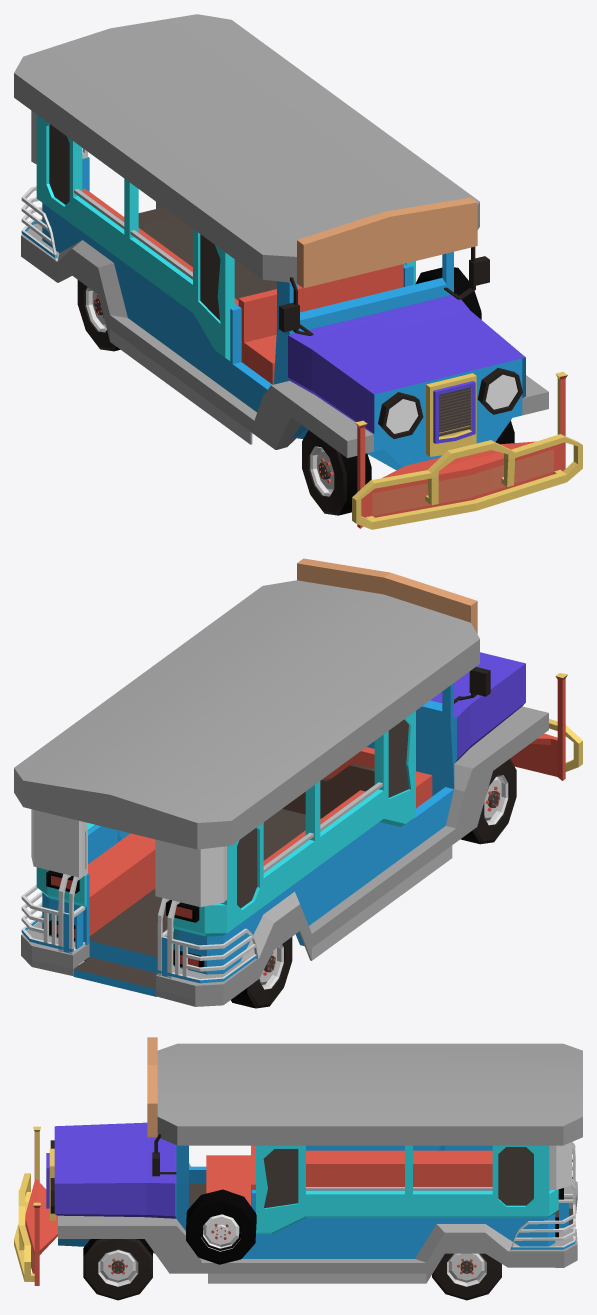
Rendered from jeep_separated.fbx.
3 views of the same model, one above another, from view 1: azimuth 30°, elevation 25°; view 2: azimuth 150°, elevation 25°; view 3: azimuth 270°, elevation 25° (orthographic). The views are drawn at different scales.
Parts seen in each view (by area): view 1: jeep_body, tire_R_front, tire_R_bot; view 2: jeep_body, tire_R_front, tire_R_bot; view 3: jeep_body, tire_L_front, tire_L_bot.
Boxes of the visible parts, box(x1,y1,x2,y2) form: jeep_body: box(14, 14, 582, 529); tire_R_front: box(302, 430, 371, 515); tire_R_bot: box(77, 280, 120, 351); jeep_body: box(14, 558, 582, 1006); tire_R_front: box(460, 759, 516, 844); tire_R_bot: box(231, 937, 292, 1008); jeep_body: box(14, 1037, 582, 1285); tire_L_front: box(83, 1239, 152, 1300); tire_L_bot: box(432, 1253, 501, 1300).
Size of the model in its own units: 270 by 291 by 736.
Materials: 1 (1 with a texture image).
